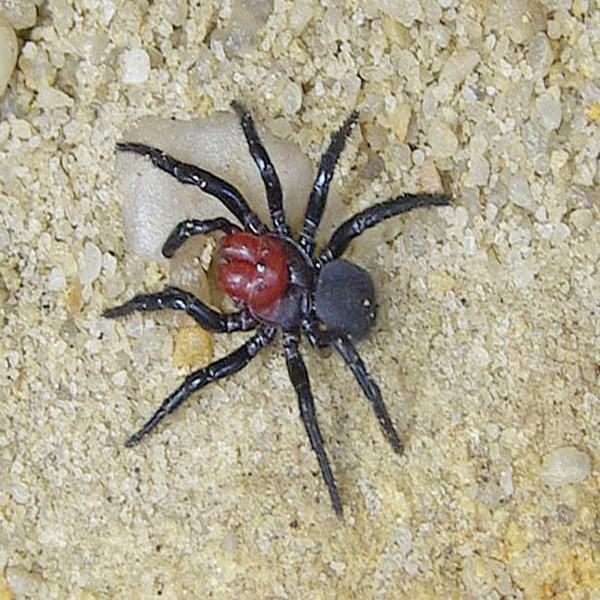Red Headed Mouse Spider: (117, 100, 451, 520)
